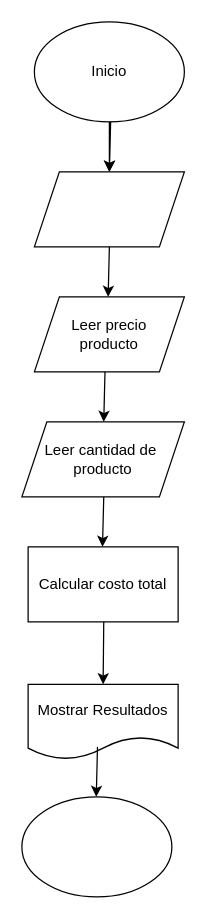
This 206x919 diagram has some shape labels left out. Here are the shapes that lost their labels. From the top down, the centre of each, then its label:
the point at 108,209: Leer nombre
the point at 96,846: Fin
